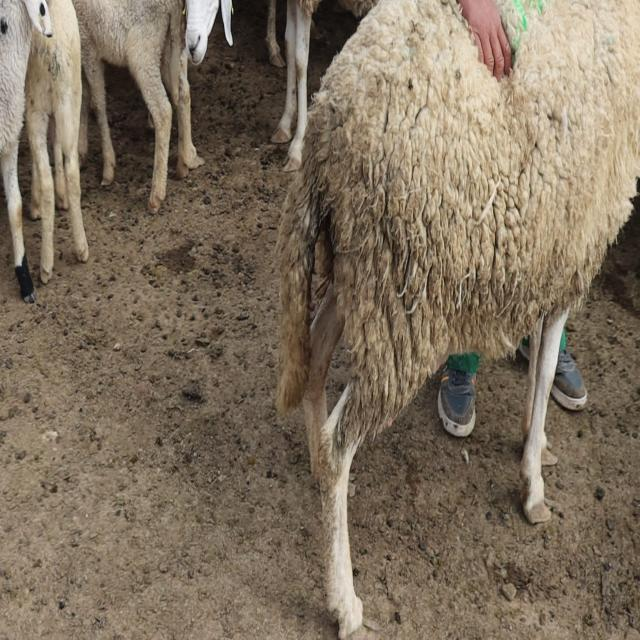Score_2: (275, 0, 640, 638)
